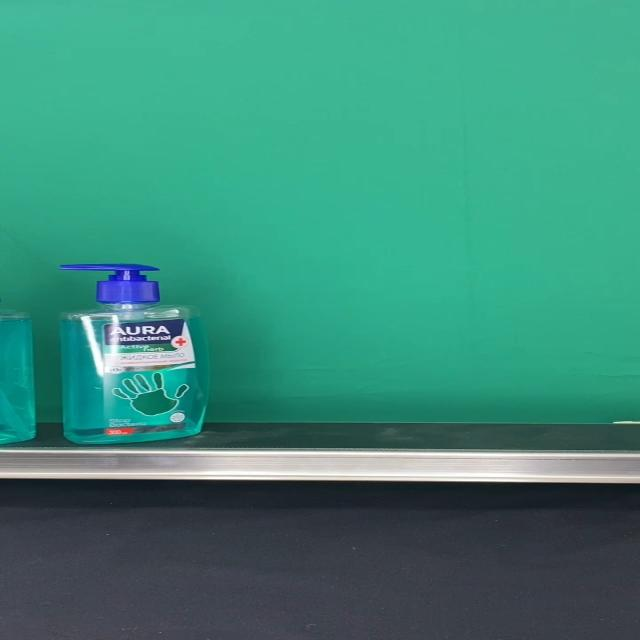Bottle: (58, 263, 210, 444)
Cap: (61, 264, 159, 306)
